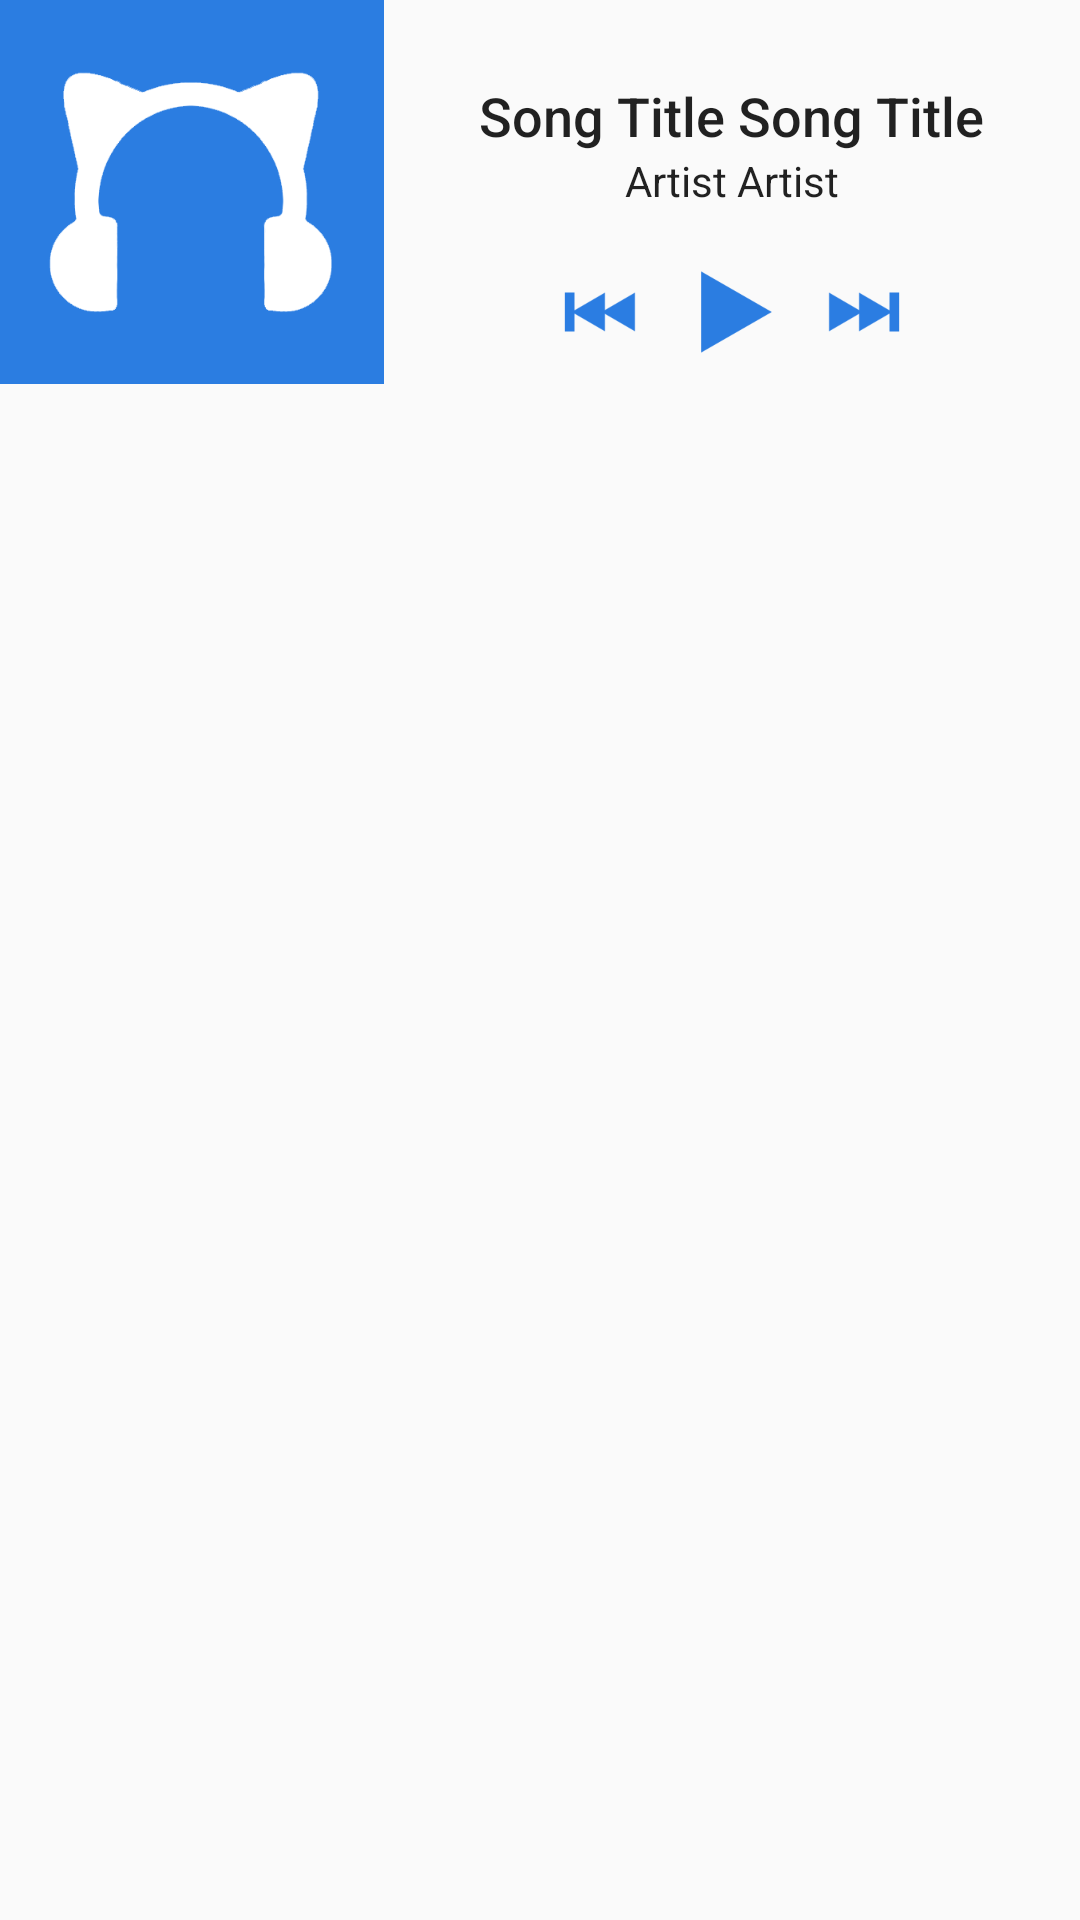

Locate icon controls on the screen. Image size 1080x1920, boxes as [x1=x1, y1=y1, x2=x2, y2=y2].
next: [x1=829, y1=292, x2=900, y2=332]
play: [x1=701, y1=271, x2=772, y2=353]
prev: [x1=564, y1=292, x2=635, y2=332]
